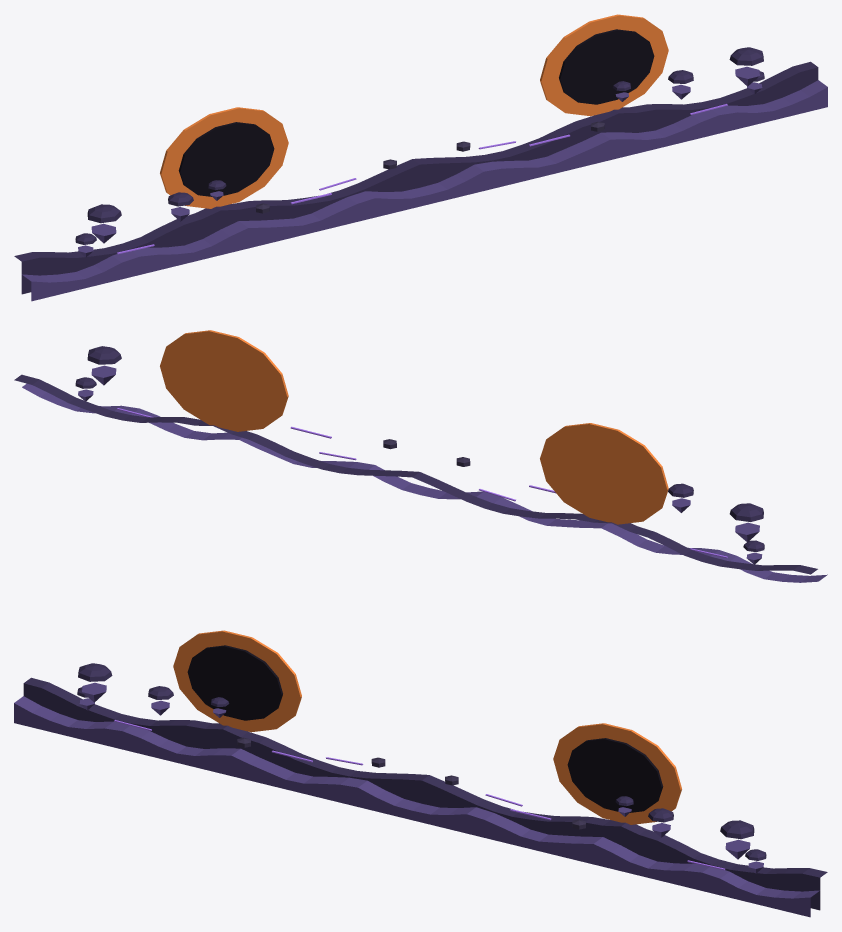
File: backdrop_void.glb
3 views of the same model, one above another, from view 1: azimuth 30°, elevation 25°; view 2: azimuth 150°, elevation 25°; view 3: azimuth 330°, elevation 25° (orthographic).
Visible parts, largest first — view 1: backdrop_void; view 2: backdrop_void; view 3: backdrop_void.
Boxes of the visible parts, x1,y1,x2,y2 form: backdrop_void: [14, 14, 827, 301]; backdrop_void: [14, 330, 827, 582]; backdrop_void: [14, 630, 827, 917].
Size of the model in its own units: 260 by 40 by 14.
Materials: 1 (1 with a texture image).
